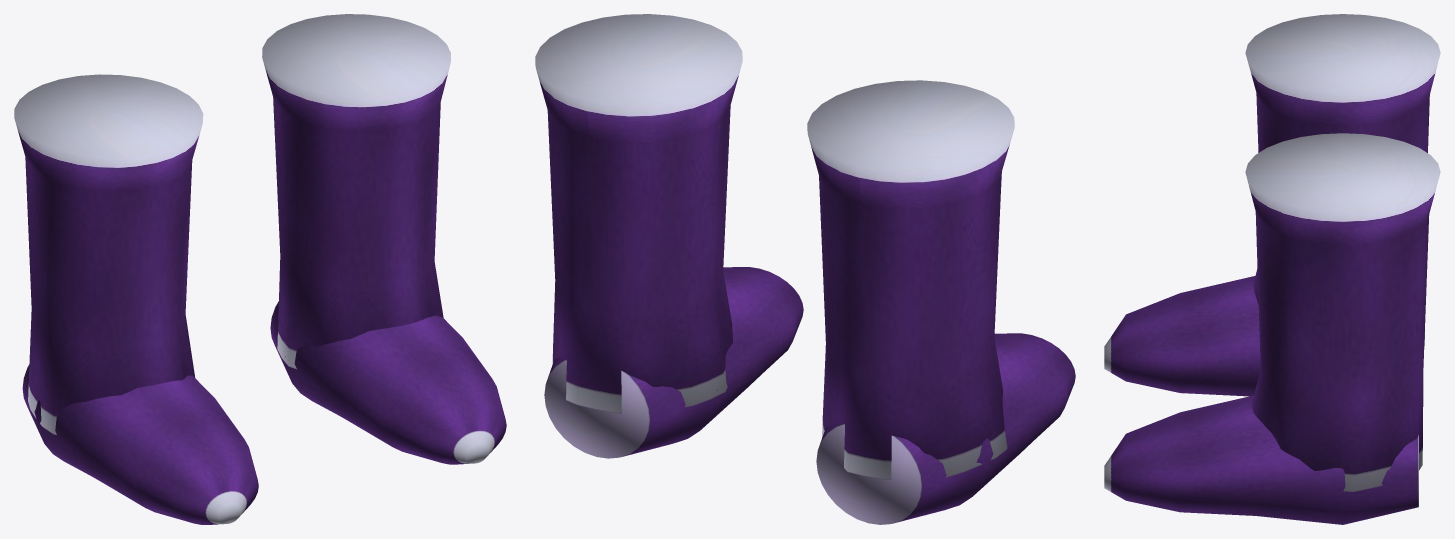
The model's file is amethyst_boots_feet.glb.
3 renders of one model, left to right at view 1: azimuth 30°, elevation 25°; view 2: azimuth 150°, elevation 25°; view 3: azimuth 270°, elevation 25°, orthographic. The views are drawn at different scales.
Parts seen in each view (by area): view 1: amethyst_boots_feet; view 2: amethyst_boots_feet; view 3: amethyst_boots_feet.
Boxes of the visible parts, x1,y1,x2,y2 form: amethyst_boots_feet: (14,14,506,524); amethyst_boots_feet: (535,14,1075,524); amethyst_boots_feet: (1104,14,1440,524).
Bounding box in the file's own units: 0.55 × 0.4477 × 0.3965.
Materials: 1 (1 with a texture image).
